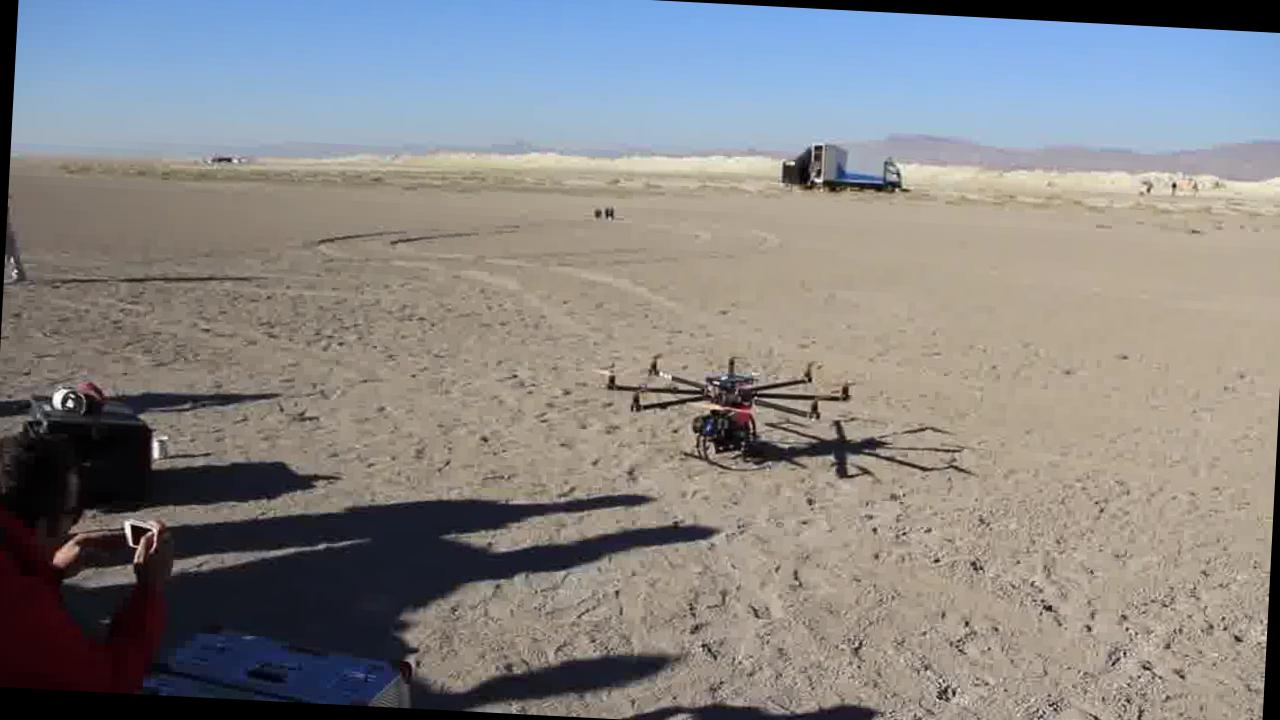drone: (592, 343, 856, 471)
